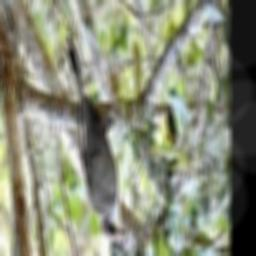Cuckoo: (67, 37, 124, 239)
